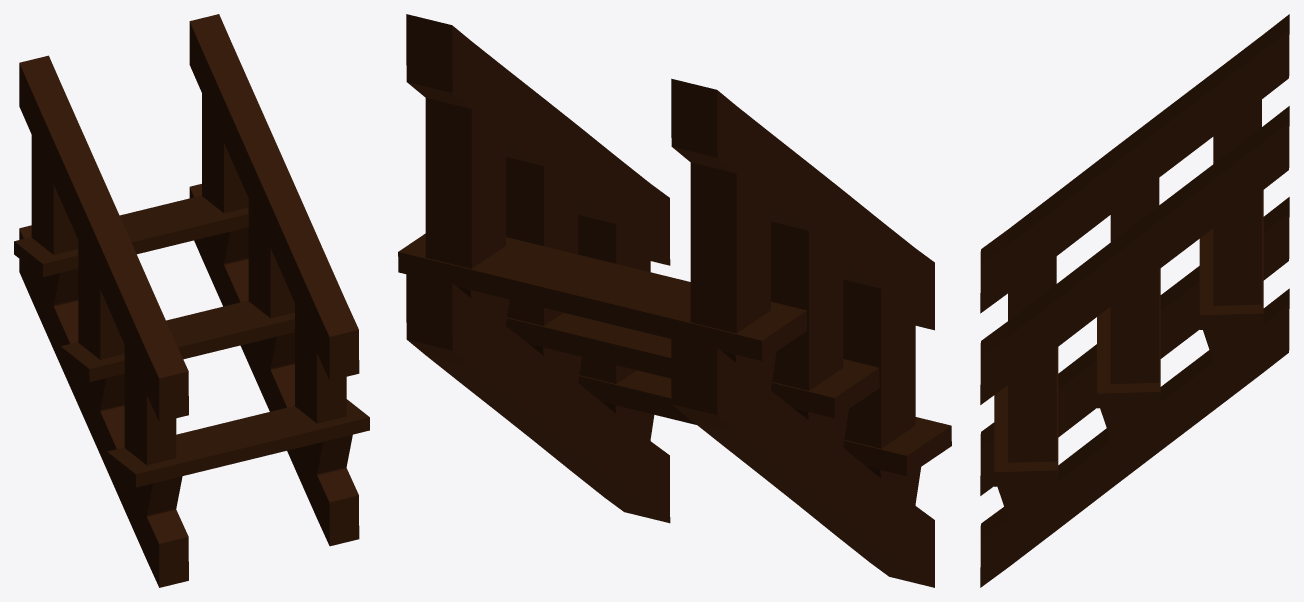
Rendered from 14.06_Bubuia_escada1-1.fbx.
3 views of the same model, side by side, from view 1: azimuth 30°, elevation 25°; view 2: azimuth 150°, elevation 25°; view 3: azimuth 270°, elevation 25° (orthographic). The views are drawn at different scales.
Visible parts, largest first — view 1: Cube; view 2: Cube; view 3: Cube.
Boxes of the visible parts, x1,y1,x2,y2 form: Cube: (14, 14, 369, 587); Cube: (398, 14, 951, 587); Cube: (980, 14, 1289, 587).
Size of the model in its own units: 0.8452 by 1.46 by 0.8765.
